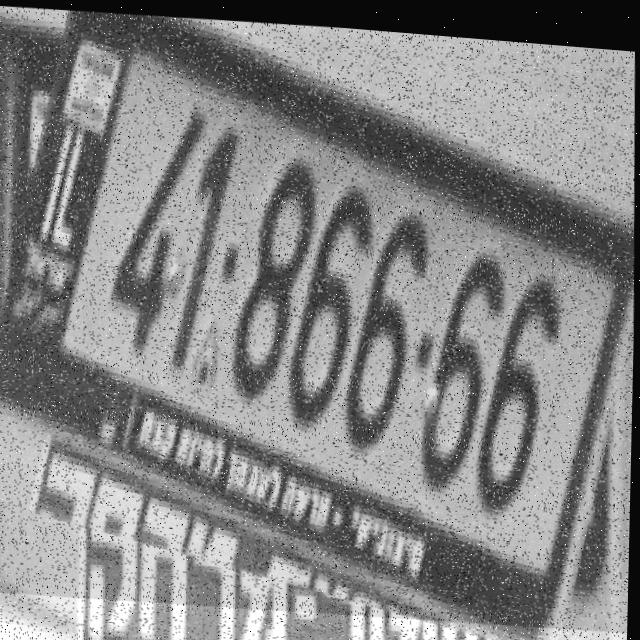LicensePlate: (0, 0, 640, 632)
